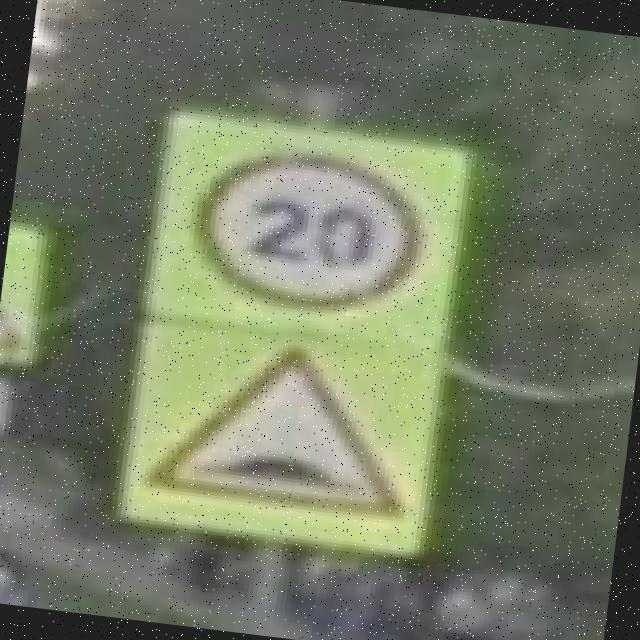Ograniczenie predkosci do 20: (180, 137, 437, 327)
